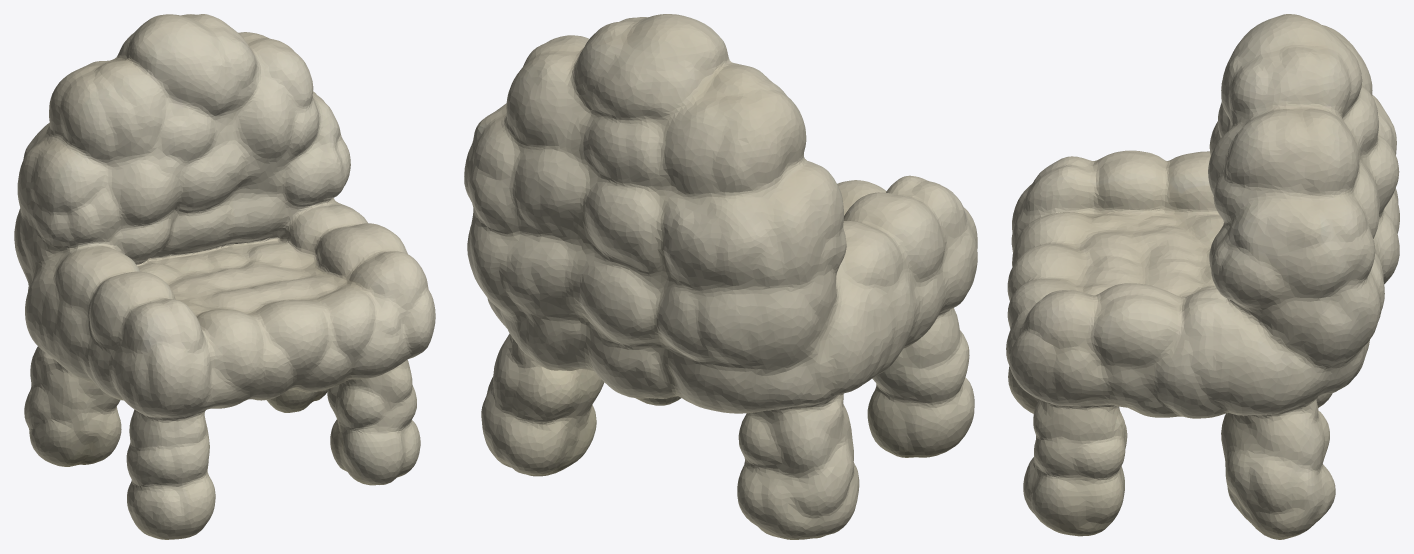
Rendered from cloud-removebg-preview.glb.
3 views of the same model, side by side, from view 1: azimuth 30°, elevation 25°; view 2: azimuth 150°, elevation 25°; view 3: azimuth 270°, elevation 25° (orthographic). The views are drawn at different scales.
Visible parts, largest first — view 1: tmpwlng26lx.ply; view 2: tmpwlng26lx.ply; view 3: tmpwlng26lx.ply.
Part boxes in pixels (<box>): tmpwlng26lx.ply: <box>14,14,435,539</box>; tmpwlng26lx.ply: <box>464,14,977,539</box>; tmpwlng26lx.ply: <box>1006,14,1399,539</box>.
Bounding box in the file's own units: 1.63 × 1.99 × 1.57.
1 material, 1 textured.
